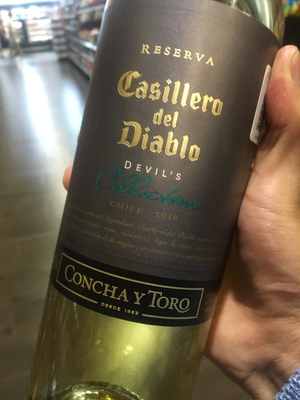casillero del diablo devils collection verde: (52, 1, 272, 398)
